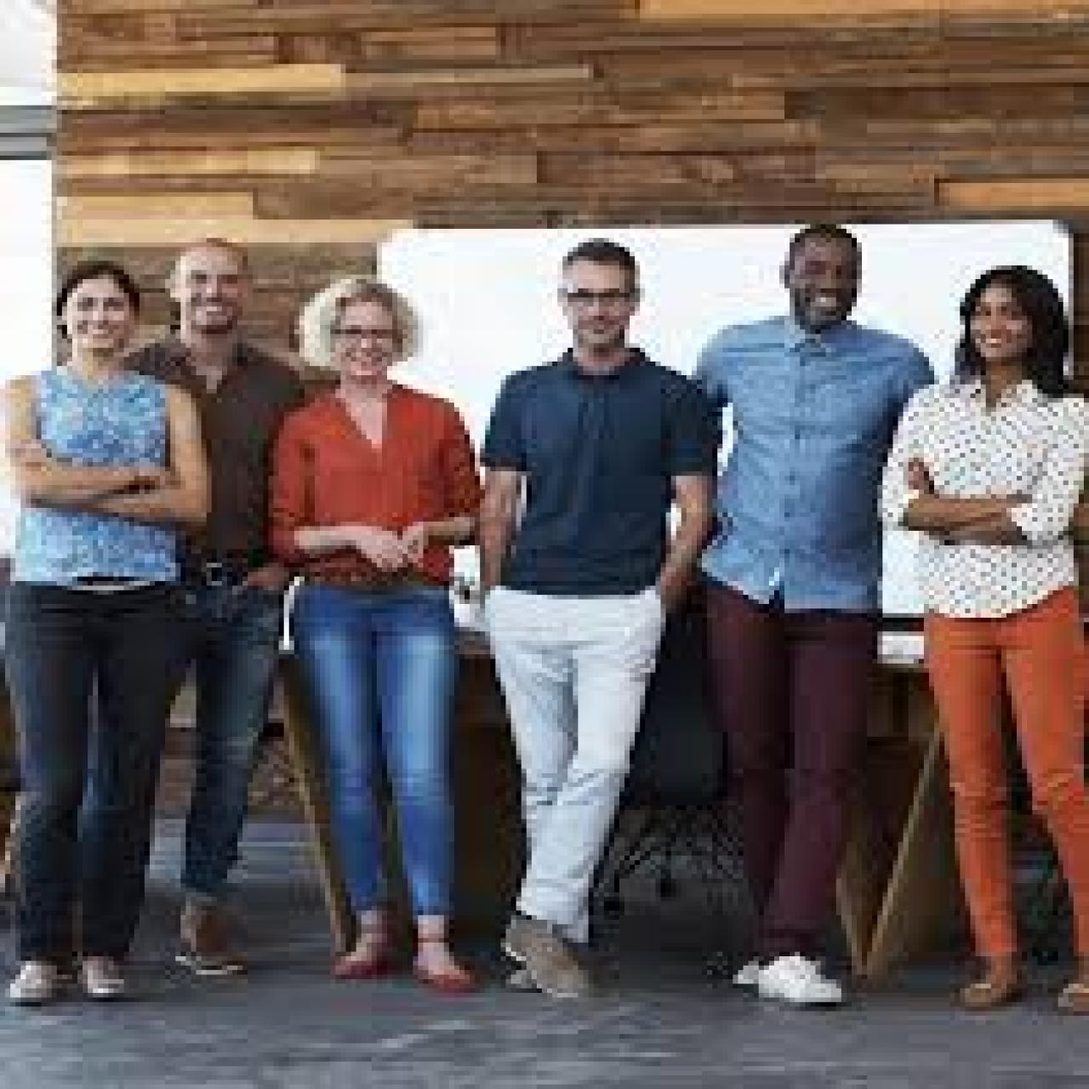NO_Safety_Vest: (720, 324, 900, 601), (11, 371, 190, 593), (915, 386, 1088, 615), (506, 371, 683, 590), (146, 346, 278, 574), (293, 402, 454, 583)
Person: (683, 206, 941, 1015), (470, 229, 722, 990), (877, 244, 1089, 1011), (275, 278, 490, 986), (6, 254, 205, 1008), (120, 224, 307, 970)
